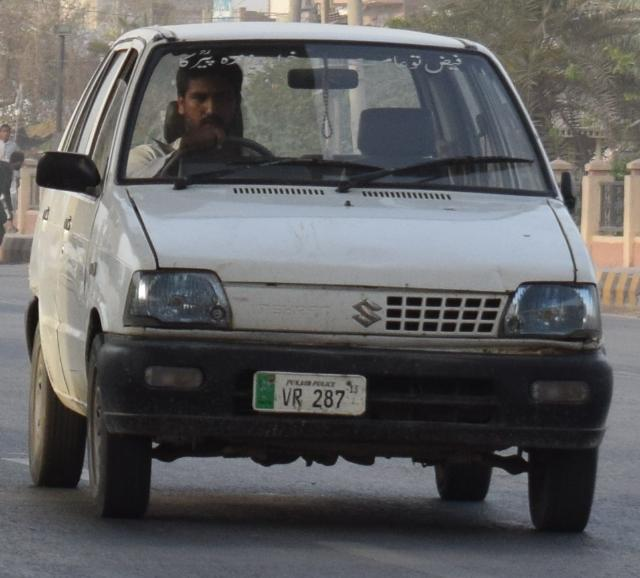plate: (250, 366, 370, 420)
